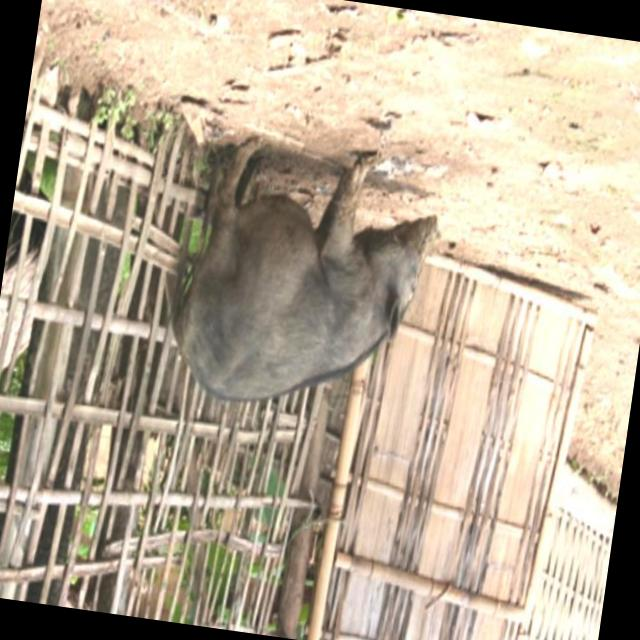pig: (173, 138, 437, 400)
